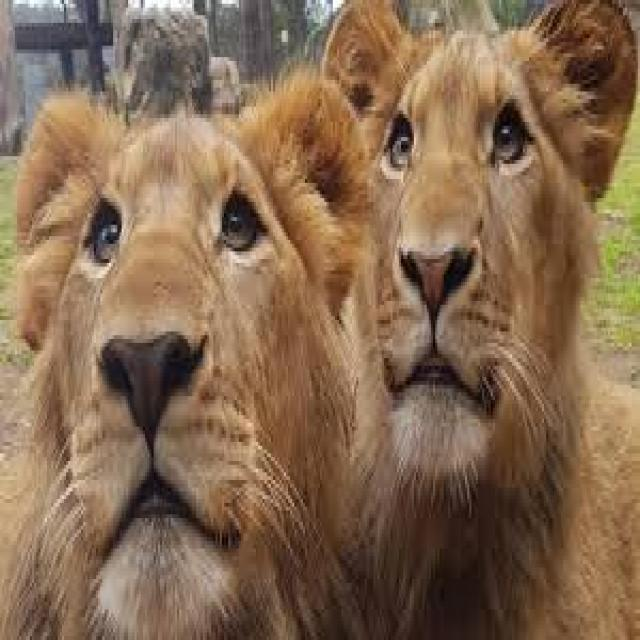Lion: (1, 78, 371, 633), (325, 0, 638, 632)
